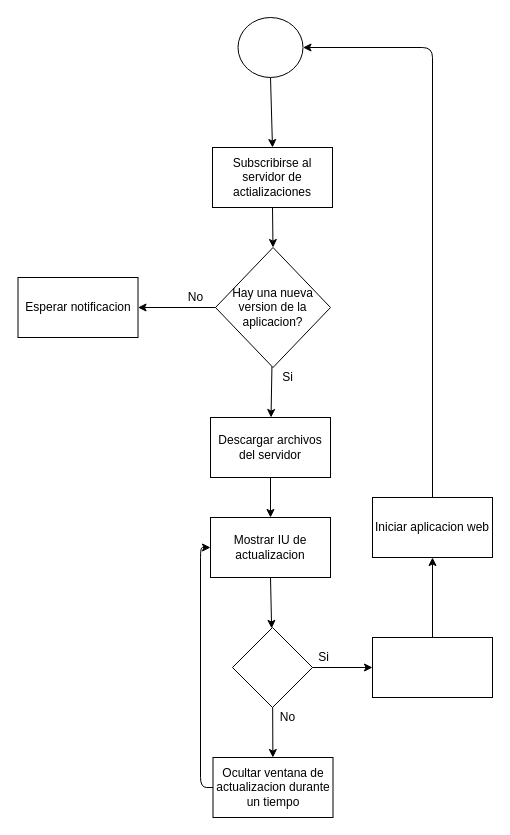
This 510x835 diagram has some shape labels left out. The centre of each missing label's shape, as x and y in pixels:
"Actualizar?" goes at (272,667).
"Detener aplicacion y actualizar" goes at (432,667).
"Inicio" goes at (270,47).
